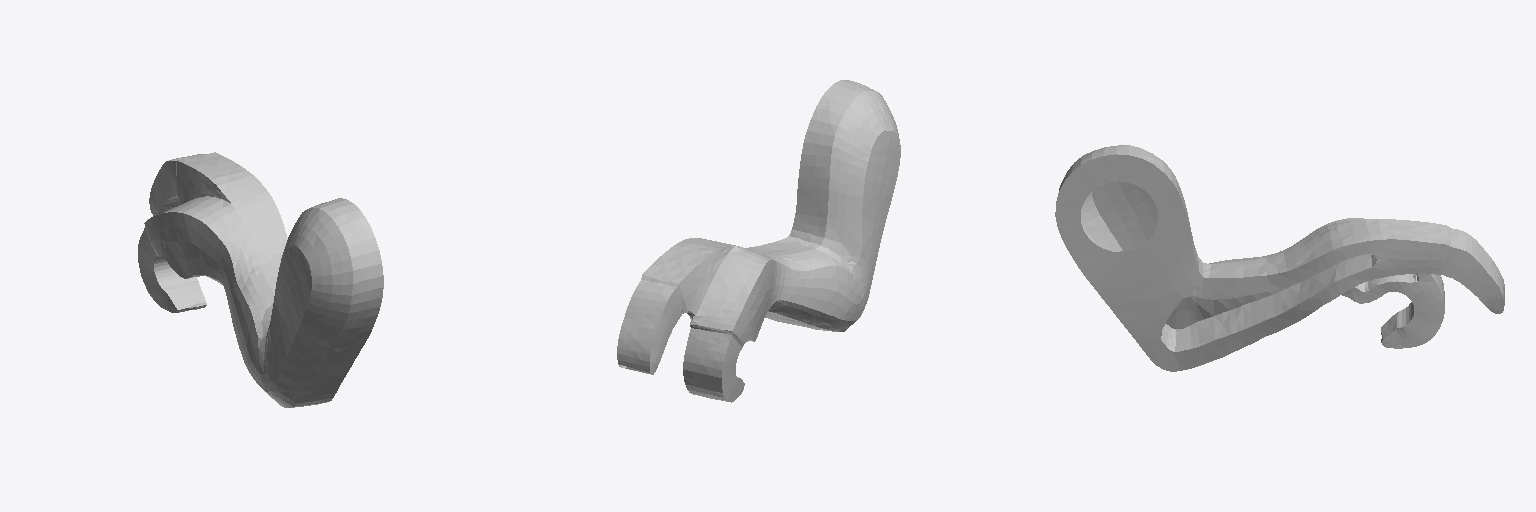
The model's file is BrazoIzquierdo.obj.
The picture shows the model from 3 angles: view 1: azimuth 30°, elevation 25°; view 2: azimuth 150°, elevation 25°; view 3: azimuth 270°, elevation 25°; orthographic projection.
Visible parts, largest first — view 1: polySurface69; view 2: polySurface69; view 3: polySurface69.
Part boxes in pixels (bbox=[...]): polySurface69: bbox=[138, 152, 383, 407]; polySurface69: bbox=[617, 80, 900, 402]; polySurface69: bbox=[1055, 145, 1504, 371].
Bounding box in the file's own units: 0.3648 × 0.8561 × 1.6.